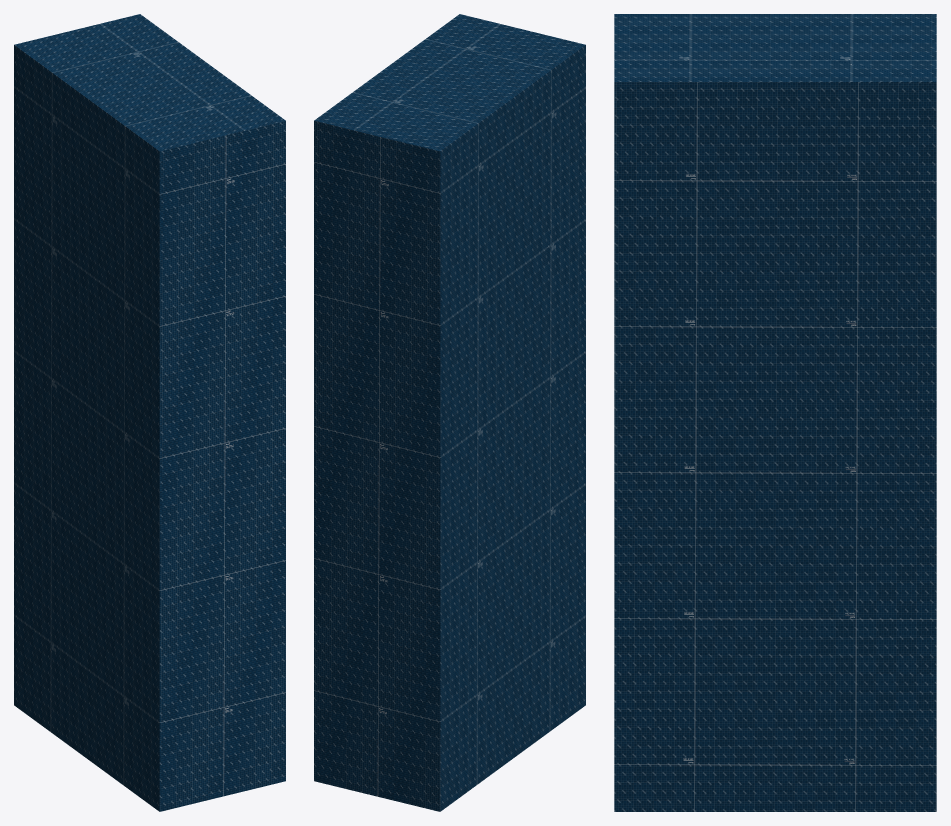
The model's file is WallA2mX5m.fbx.
3 views of the same model, side by side, from view 1: azimuth 30°, elevation 25°; view 2: azimuth 150°, elevation 25°; view 3: azimuth 270°, elevation 25° (orthographic). The views are drawn at different scales.
Visible parts, largest first — view 1: 2mWall; view 2: 2mWall; view 3: 2mWall.
Part boxes in pixels (x1,y1,x2,y2): 2mWall: (14,14,285,811); 2mWall: (314,14,585,811); 2mWall: (614,14,936,811).
Size of the model in its own units: 100 by 500 by 200.
Materials: 1 (1 with a texture image).
